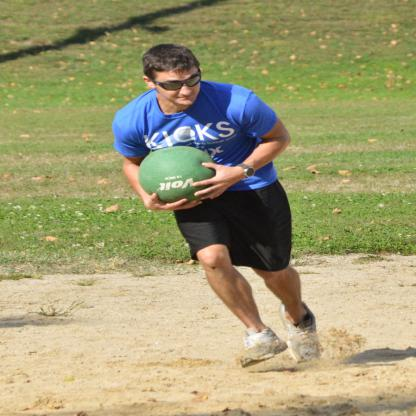Ball: (135, 148, 218, 205)
